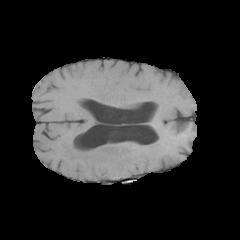glioma: (55, 134, 166, 174)
